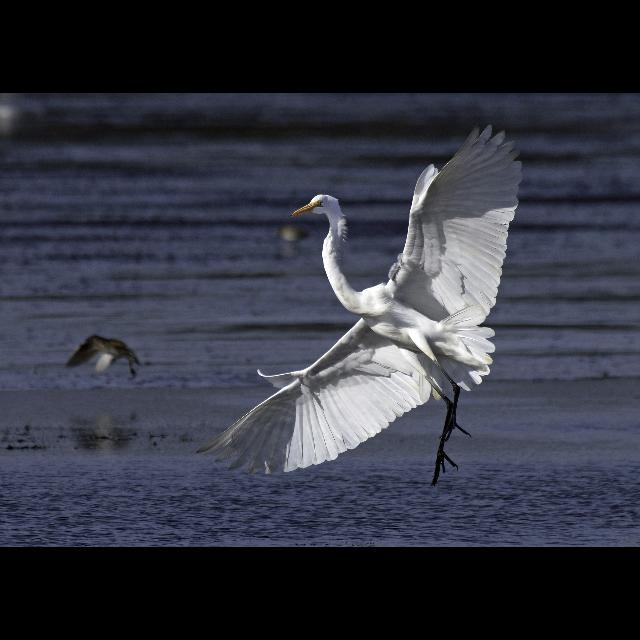egret: (200, 123, 530, 501)
